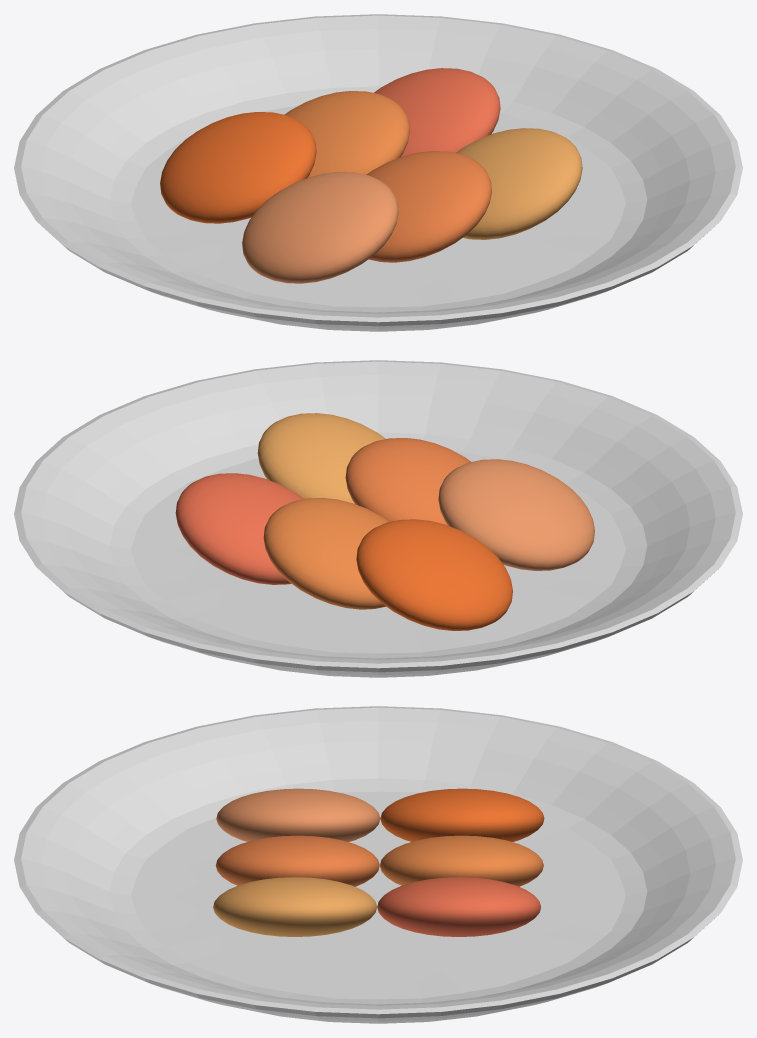
File: kue gemblong.fbx
The picture shows the model from 3 angles, top to bottom: view 1: azimuth 30°, elevation 25°; view 2: azimuth 150°, elevation 25°; view 3: azimuth 270°, elevation 25°; orthographic projection.
Parts seen in each view (by area): view 1: Cylinder, Sphere.008, Sphere.002, Sphere.007, Sphere.006, Sphere.001, Sphere; view 2: Cylinder, Sphere.002, Sphere.008, Sphere.001, Sphere, Sphere.007, Sphere.006; view 3: Cylinder, Sphere.006, Sphere, Sphere.002, Sphere.008, Sphere.007, Sphere.001.
Boxes of the visible parts, x1,y1,x2,y2 form: Cylinder: (14,14,742,331); Sphere.008: (242,172,398,283); Sphere.002: (160,112,316,223); Sphere.007: (366,151,491,262); Sphere.006: (456,128,582,239); Sphere.001: (284,91,409,177); Sphere: (374,68,500,156); Cylinder: (14,360,742,677); Sphere.002: (356,519,512,630); Sphere.008: (438,459,594,570); Sphere.001: (263,498,388,609); Sphere: (175,473,303,584); Sphere.007: (345,438,470,525); Sphere.006: (257,413,385,503); Cylinder: (14,706,742,1023); Sphere.006: (213,877,376,936); Sphere: (377,877,540,936); Sphere.002: (380,788,544,841); Sphere.008: (216,788,380,841); Sphere.007: (215,835,379,886); Sphere.001: (380,835,543,886).
Size of the model in its own units: 231 by 29.5 by 231.
